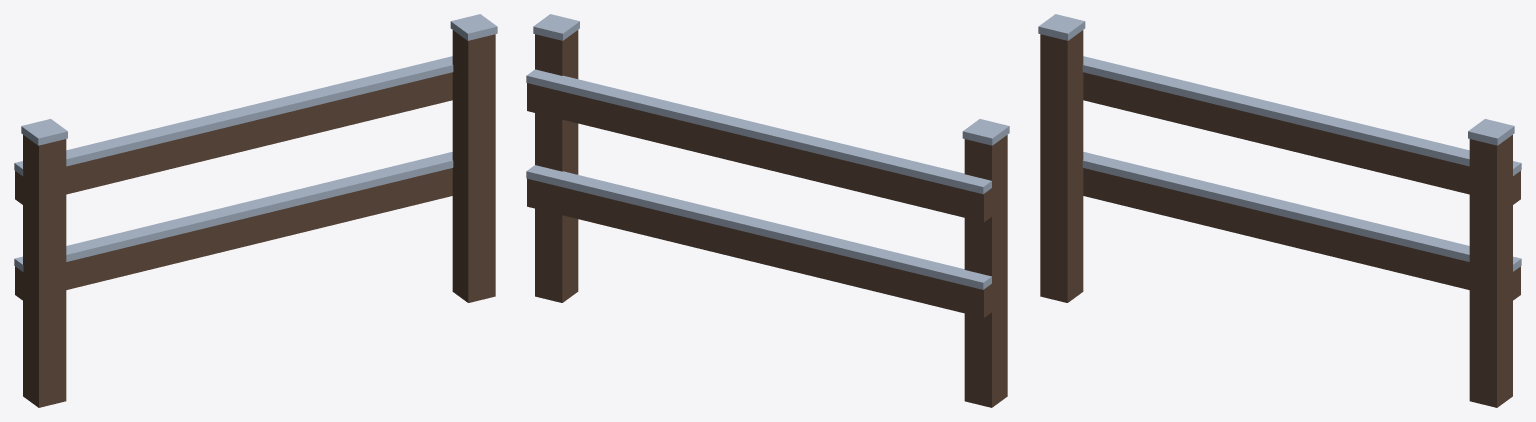
The model's file is fence.glb.
3 renders of one model, left to right at view 1: azimuth 30°, elevation 25°; view 2: azimuth 150°, elevation 25°; view 3: azimuth 330°, elevation 25°, orthographic.
Visible parts, largest first — view 1: Fence; view 2: Fence; view 3: Fence.
Boxes of the visible parts, x1=… form: Fence: x1=14, y1=14, x2=497, y2=407; Fence: x1=526, y1=14, x2=1009, y2=407; Fence: x1=1038, y1=14, x2=1521, y2=407.
Size of the model in its own units: 2.01 by 1.13 by 0.19.
